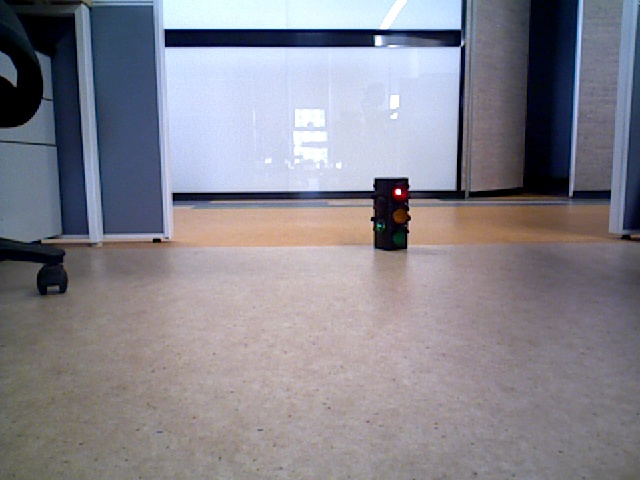red: (372, 177, 406, 248)
